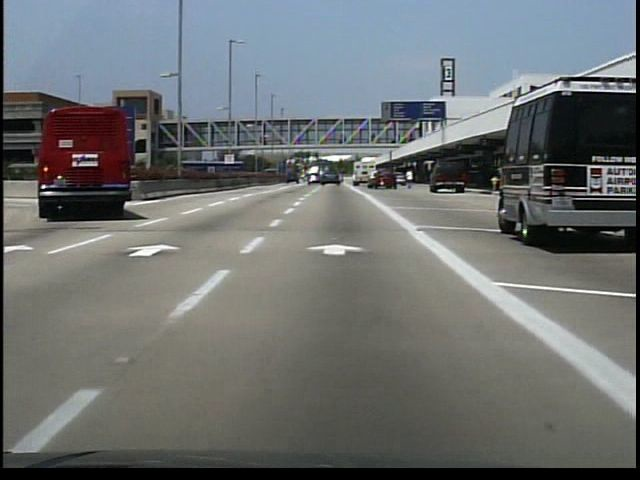person: (403, 169, 417, 191)
